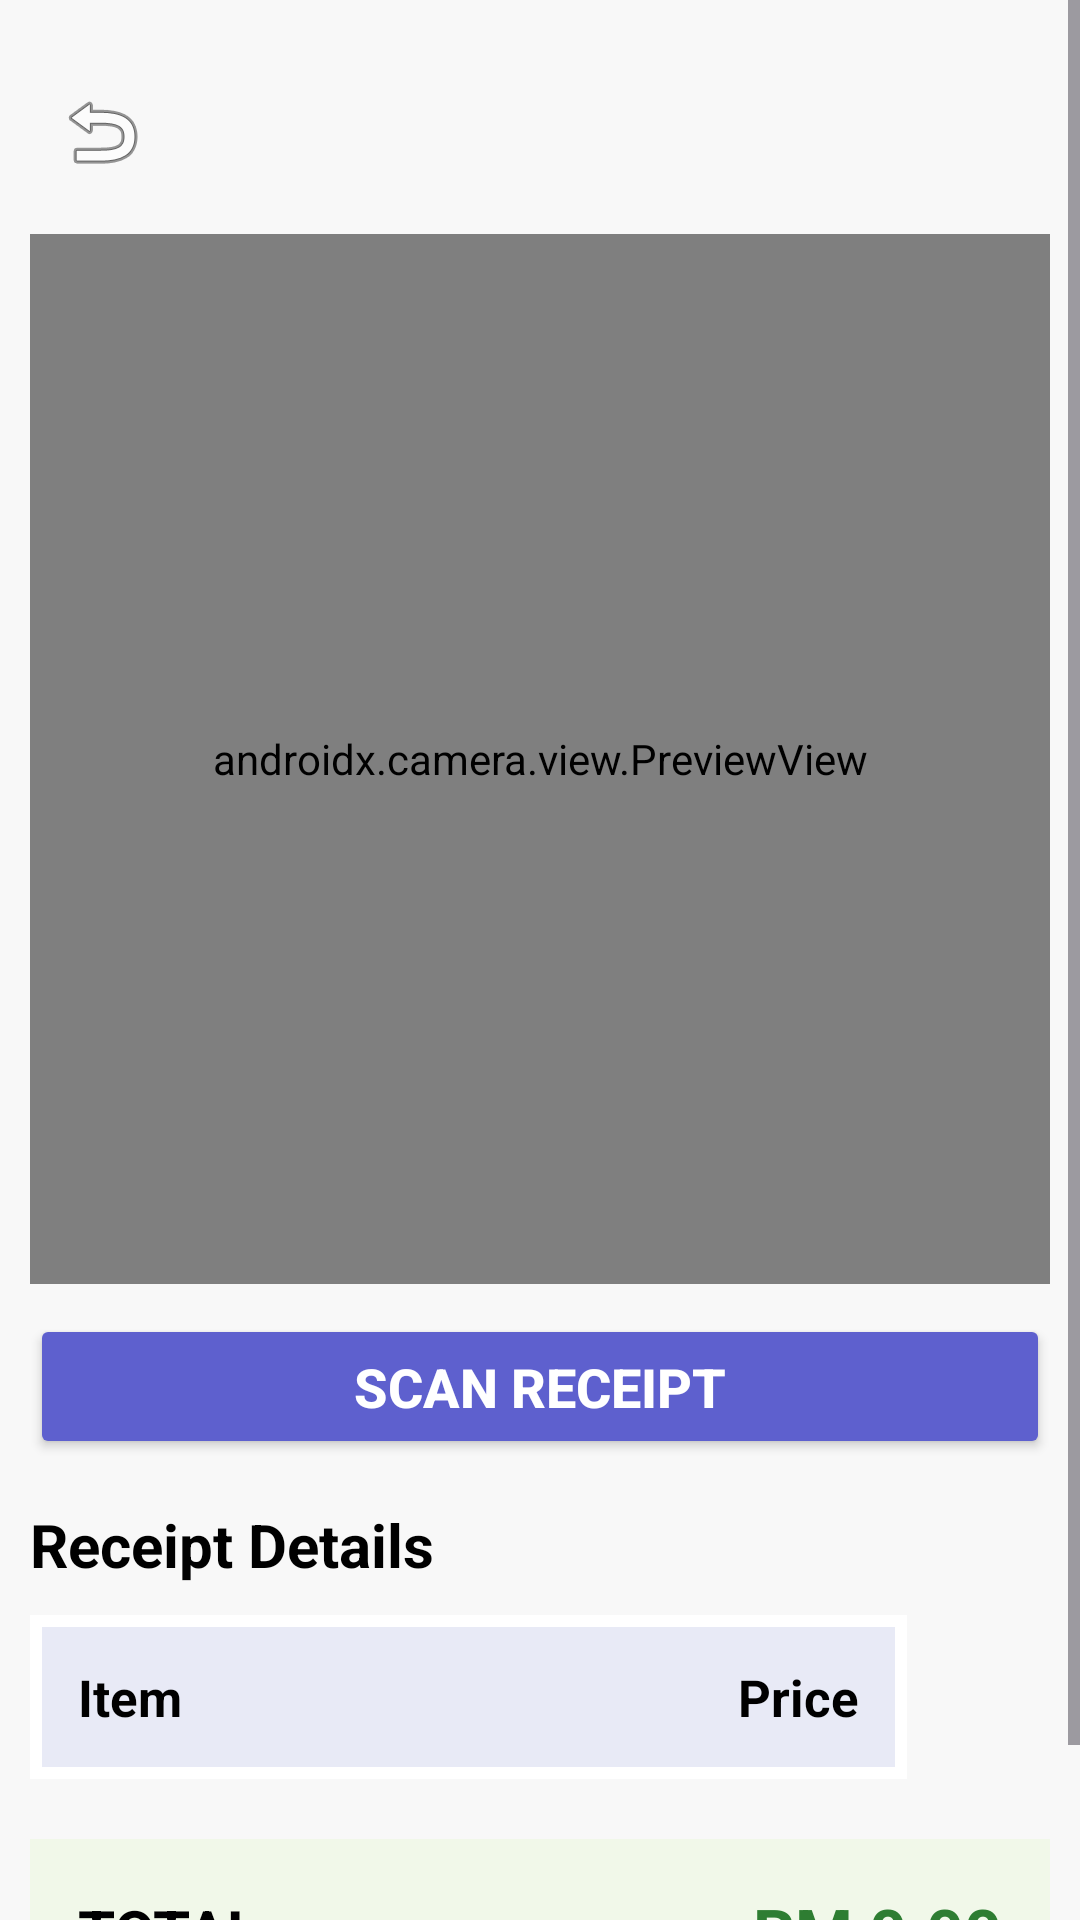

Icons on this 1080 x 1920 Android screen, each with its box as box(x1, y1, x2, y2):
Back Button: box(69, 101, 138, 164)
